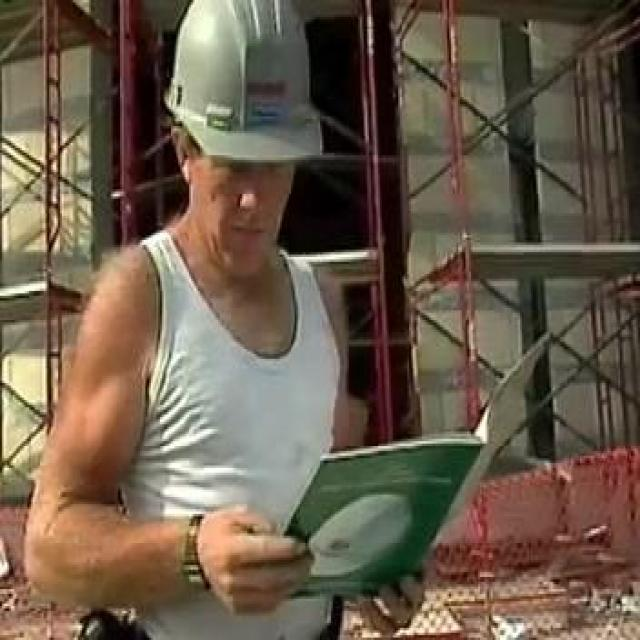Reflective-Jacket: (14, 225, 386, 628)
Safety-Helmet: (147, 0, 342, 184)
